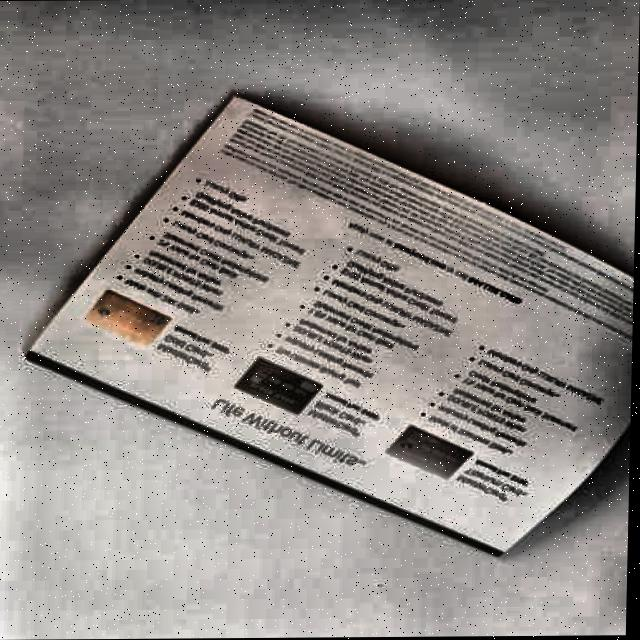paper: (13, 89, 638, 560)
